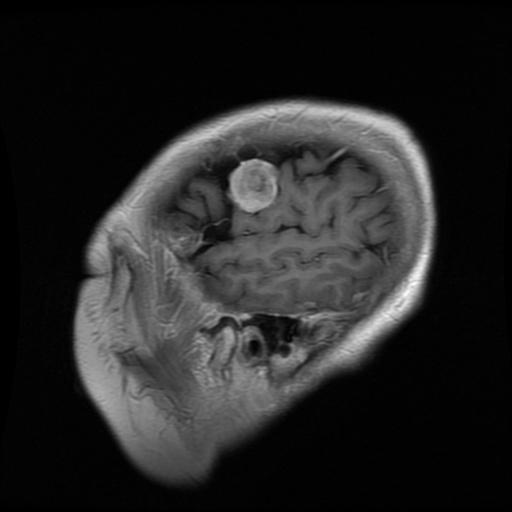meningioma: (228, 158, 279, 213)
